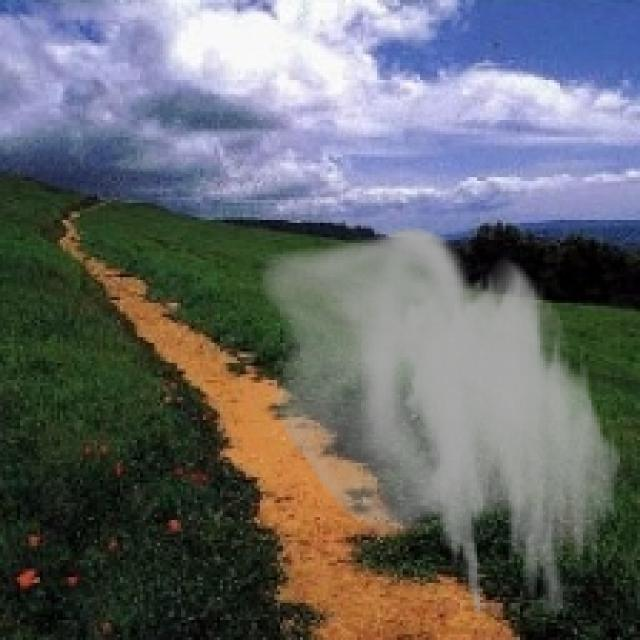smoke: (260, 226, 626, 614)
